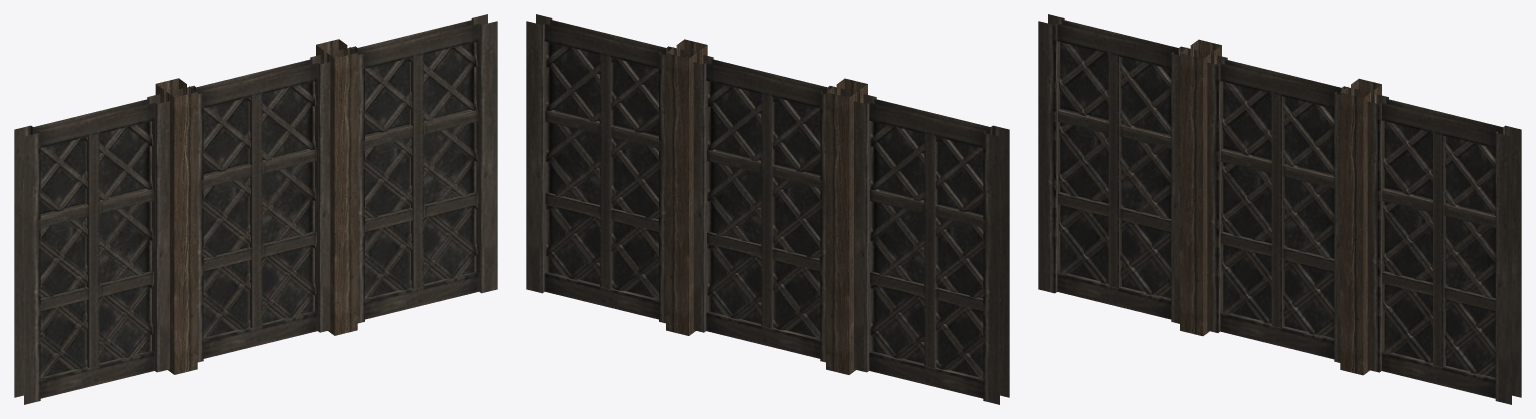
File: ARC1010362.fbx
3 views of the same model, side by side, from view 1: azimuth 30°, elevation 25°; view 2: azimuth 150°, elevation 25°; view 3: azimuth 330°, elevation 25° (orthographic).
Visible parts, largest first — view 1: smARC1010362; view 2: smARC1010362; view 3: smARC1010362.
Boxes of the visible parts, x1,y1,x2,y2 form: smARC1010362: (14,14,497,404); smARC1010362: (526,14,1009,404); smARC1010362: (1038,14,1521,404).
Size of the model in its own units: 240 by 134 by 16.41.
1 material, 1 textured.
